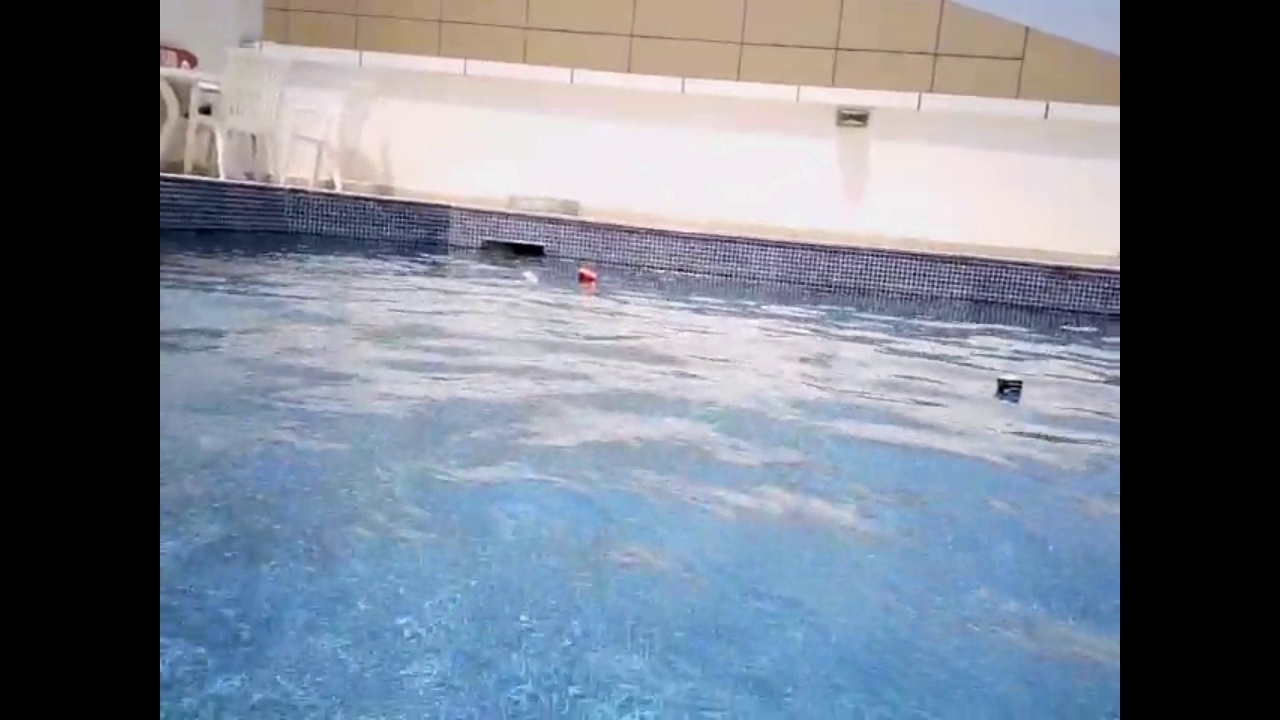debris: (987, 364, 1026, 412), (572, 263, 605, 291), (516, 267, 542, 290)
